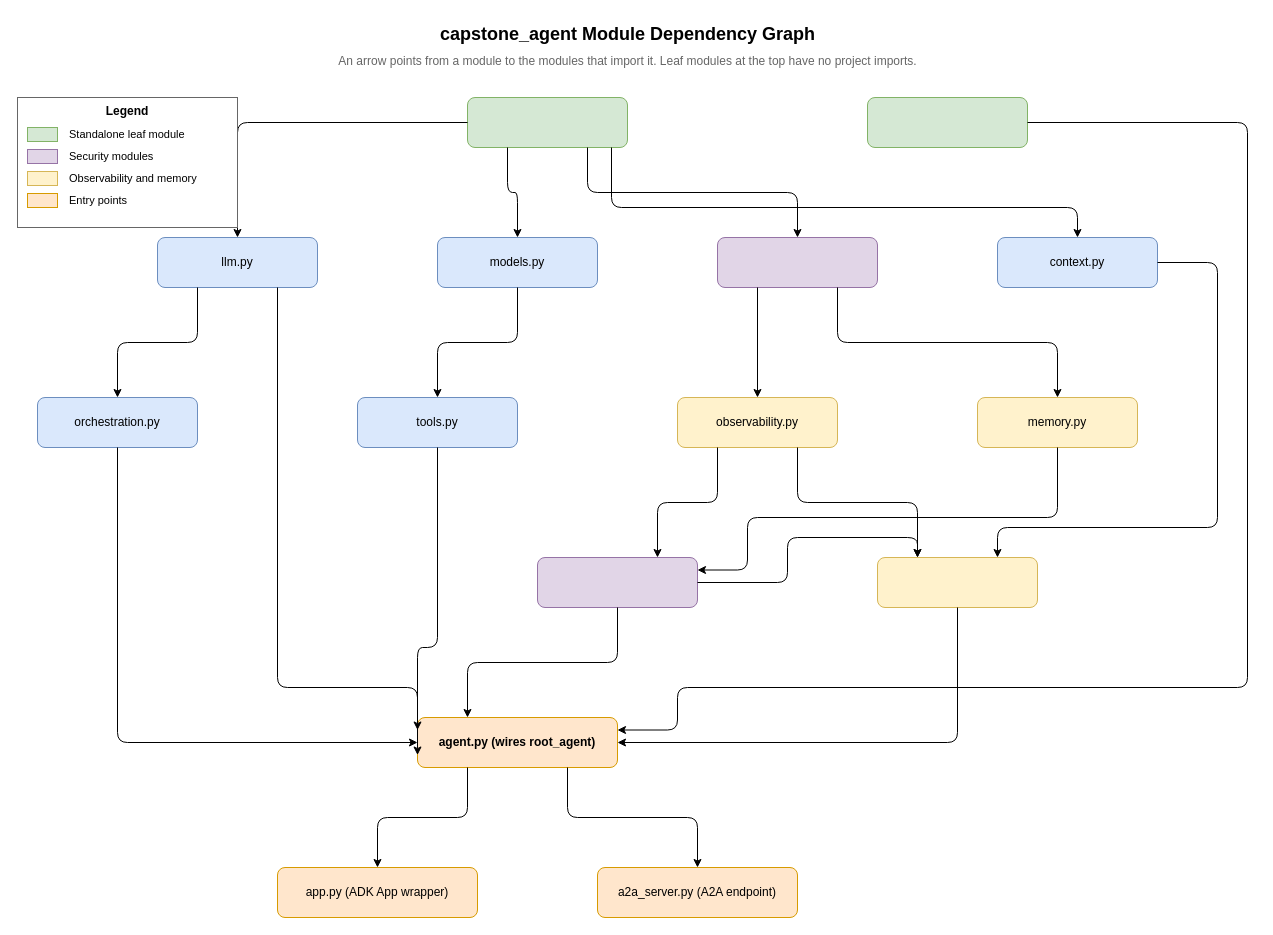
Image size: 1273x935. Some labels were removed from this diagram. Each missing label, with the box of its shape:
callbacks.py: (536, 556, 698, 608)
config.py: (466, 96, 628, 148)
plugins.py: (876, 556, 1038, 608)
prompts.py: (866, 96, 1028, 148)
security.py: (716, 236, 878, 288)
